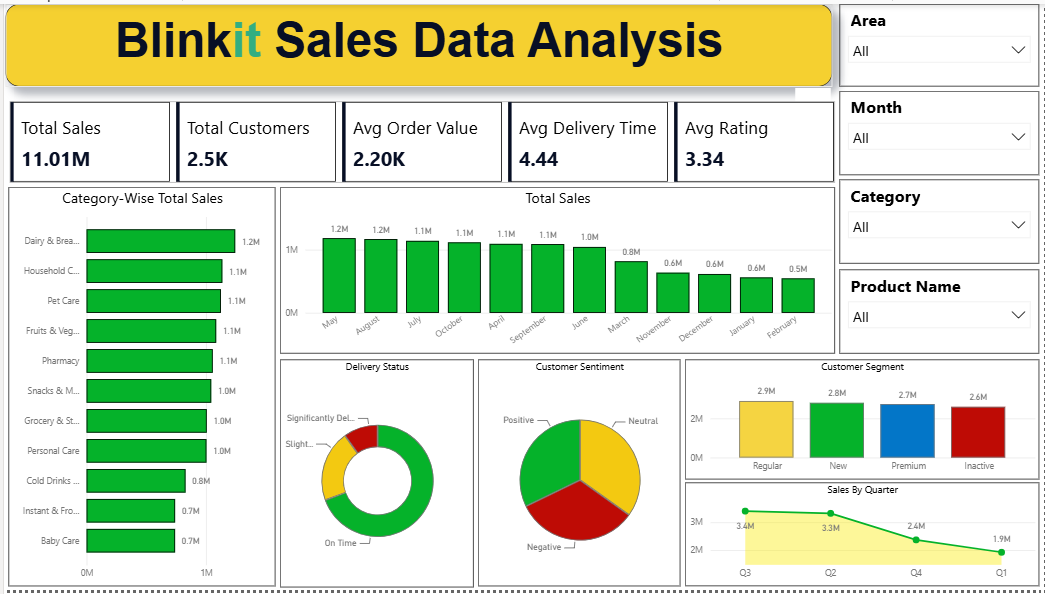

What the dashboard file says about the page in this screenshot:
{"tool":"powerbi","page":{"name":"Dashboard","canvas":[1280,720],"ordinal":0},"visuals":[{"type":"textbox","box":[1.8,0,1015.8,101.4],"z":0},{"type":"cardVisual","fields":{"Data":["blinkit_orders.total_sales","blinkit_orders.total_customers","blinkit_orders.average_order_value","blinkit_orders.average_delivery_time","blinkit_orders.average_customer_rating"]},"box":[1.8,114.3,1025,110.6],"z":1000},{"type":"slicer","fields":{"Values":["blinkit_customers.area"]},"box":[1026.8,0,245.2,101.4],"z":2000},{"type":"slicer","fields":{"Values":["blinkit_orders.month"]},"box":[1026.8,106.9,245.2,103.2],"z":3000},{"type":"slicer","fields":{"Values":["blinkit_products.category"]},"box":[1026.8,215.7,245.2,103.2],"z":4000},{"type":"slicer","fields":{"Values":["blinkit_products.product_name"]},"box":[1026.8,326.3,245.2,103.2],"z":5000},{"type":"clusteredColumnChart","title":"Total Sales","fields":{"Y":["blinkit_orders.total_sales"],"Category":["blinkit_orders.month"]},"box":[339.2,224.9,682.1,204.6],"z":6000},{"type":"donutChart","title":"Delivery Status","fields":{"Category":["blinkit_delivery_performance.delivery_status"],"Y":["blinkit_orders.total_sales"]},"box":[339.2,436.9,237.8,280.2],"z":7000},{"type":"pieChart","title":"Customer Sentiment","fields":{"Category":["blinkit_customer_feedback.sentiment"],"Y":["blinkit_orders.total_sales"]},"box":[582.5,436.9,248.9,278.4],"z":8000},{"type":"clusteredBarChart","title":"Category-Wise Total Sales","fields":{"Category":["blinkit_products.category"],"Y":["blinkit_orders.total_sales"]},"box":[5.5,224.9,328.1,490.4],"z":9000},{"type":"lineChart","title":"Sales By Quarter","fields":{"Y":["blinkit_orders.total_sales"],"Category":["blinkit_orders.quarter"]},"box":[837,588.1,435.1,127.2],"z":10000},{"type":"clusteredColumnChart","title":"Customer Segment","fields":{"Category":["blinkit_customers.customer_segment"],"Y":["blinkit_orders.total_sales"]},"box":[837,436.9,435.1,147.5],"z":11000}]}

Visuals, with their boxes in screenshot pixels (x1, y1, x2, y2), scaled from the page's 1280x720 canvas onto the 1045x594 screenshot:
textbox: 1,0,831,84
cardVisual - blinkit_orders.total_sales x blinkit_orders.total_customers: 1,94,838,186
slicer - blinkit_customers.area: 838,0,1038,84
slicer - blinkit_orders.month: 838,88,1038,173
slicer - blinkit_products.category: 838,178,1038,263
slicer - blinkit_products.product_name: 838,269,1038,354
"Total Sales" clusteredColumnChart: 277,186,834,354
"Delivery Status" donutChart: 277,360,471,592
"Customer Sentiment" pieChart: 476,360,679,590
"Category-Wise Total Sales" clusteredBarChart: 4,186,272,590
"Sales By Quarter" lineChart: 683,485,1039,590
"Customer Segment" clusteredColumnChart: 683,360,1039,482
